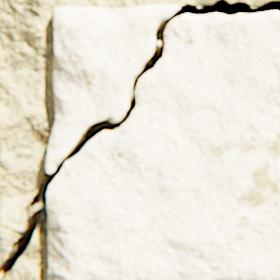broken_brick: (48, 11, 279, 279), (47, 5, 179, 172)
crack: (0, 0, 279, 279)
